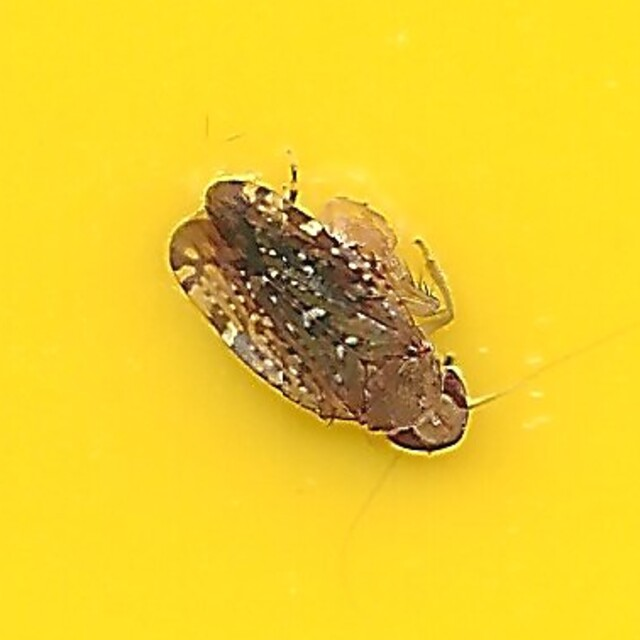Hemiptera: (169, 176, 471, 464)
